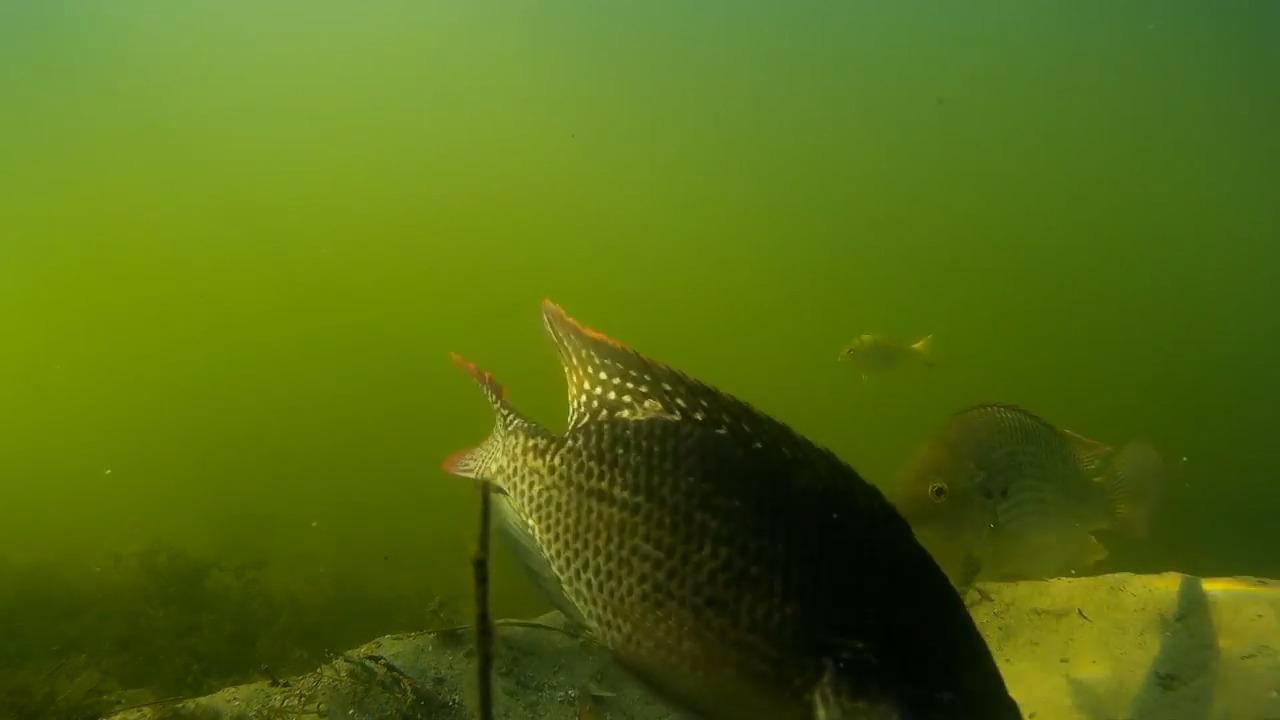Tilapia: (451, 292, 1040, 720), (880, 406, 1195, 608), (815, 302, 942, 384)
